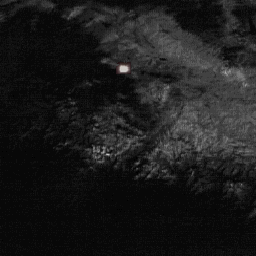Target: (116, 64, 129, 72)
